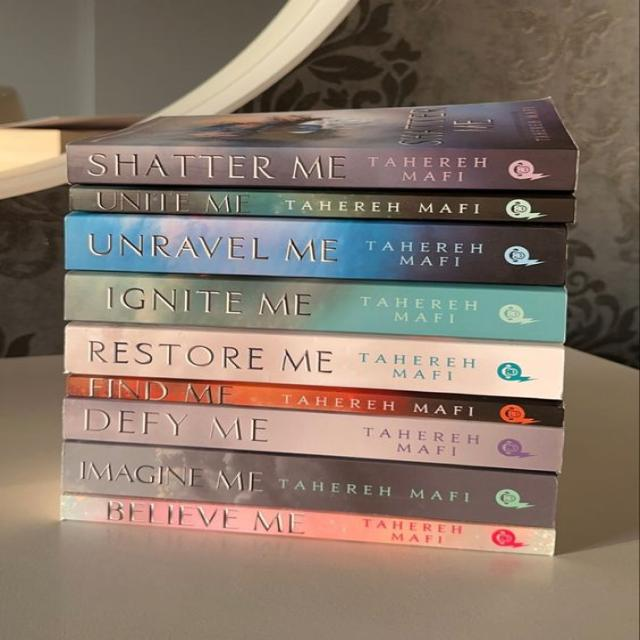book: (64, 442, 556, 528), (62, 397, 561, 473), (65, 324, 563, 399), (66, 212, 565, 286), (66, 272, 566, 343), (61, 496, 555, 555), (66, 375, 562, 427), (66, 148, 576, 188), (70, 189, 573, 221)
